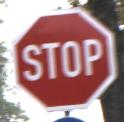Stop sign: (0, 0, 123, 121)
